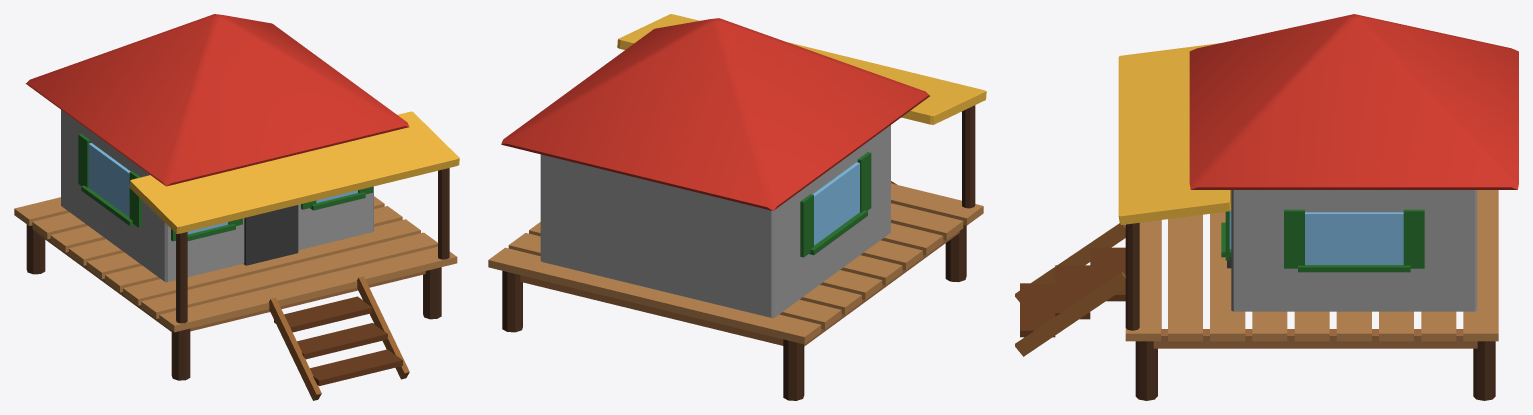
File: Bungalowlvl2.fbx
3 renders of one model, left to right at view 1: azimuth 30°, elevation 25°; view 2: azimuth 150°, elevation 25°; view 3: azimuth 270°, elevation 25°, orthographic. The views are drawn at different scales.
Visible parts, largest first — view 1: Cube; view 2: Cube; view 3: Cube.
Part boxes in pixels (box(x1,y1,x2,y2)): Cube: box(14, 14, 459, 400); Cube: box(488, 14, 986, 400); Cube: box(1015, 14, 1518, 400).
Size of the model in its own units: 2.7 by 2.46 by 3.58.
Materials: 1 (1 with a texture image).
